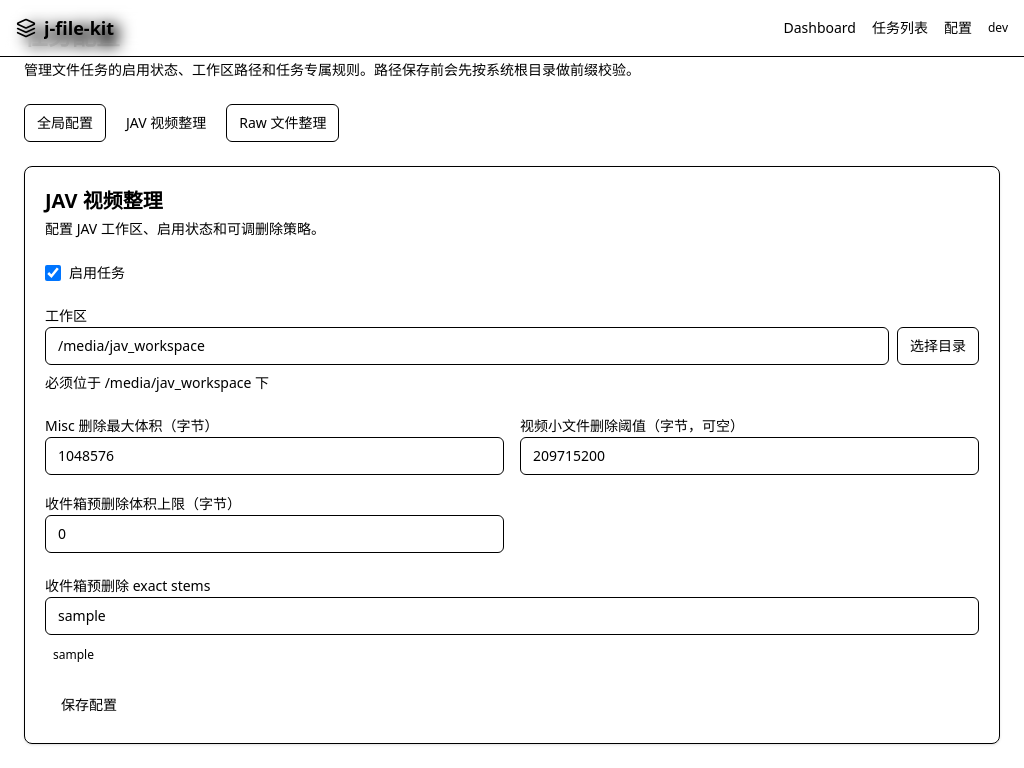
Config page › shows error when JAV config save fails
(page scrolled)
Check: the field labelled "工作区" is shown, box [45,327,889,365]
Click the button "保存配置" at (89, 705), box [45,687,133,723]
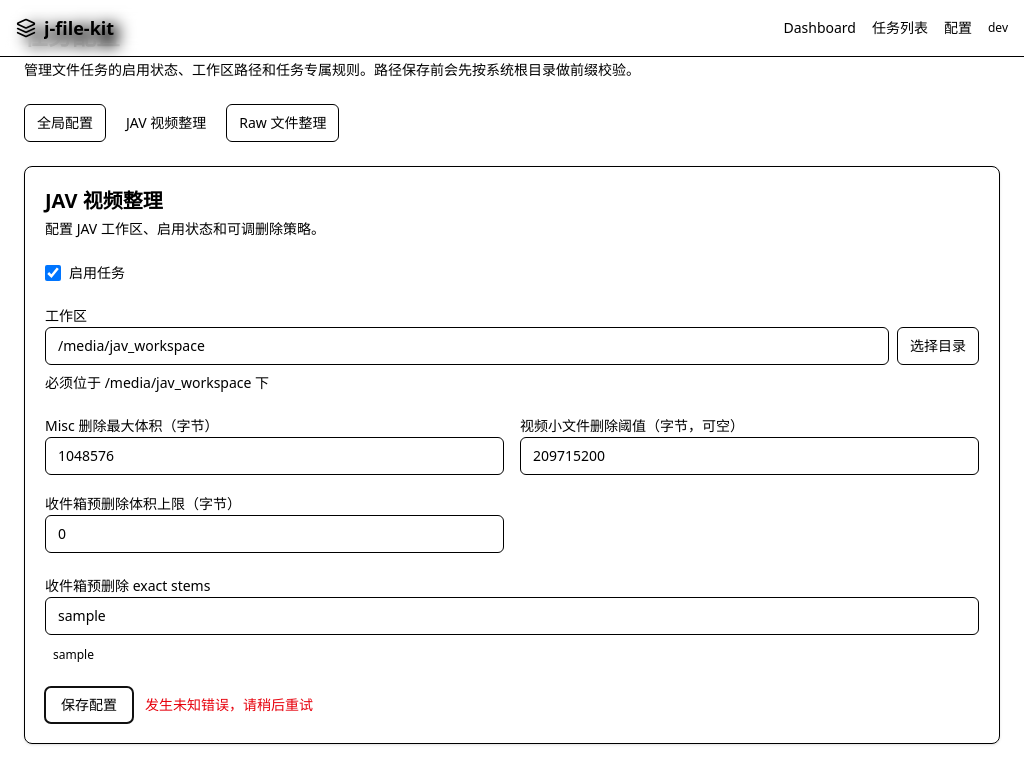
Check: the text "发生未知错误，请稍后重试" is shown, box [145,695,313,715]
